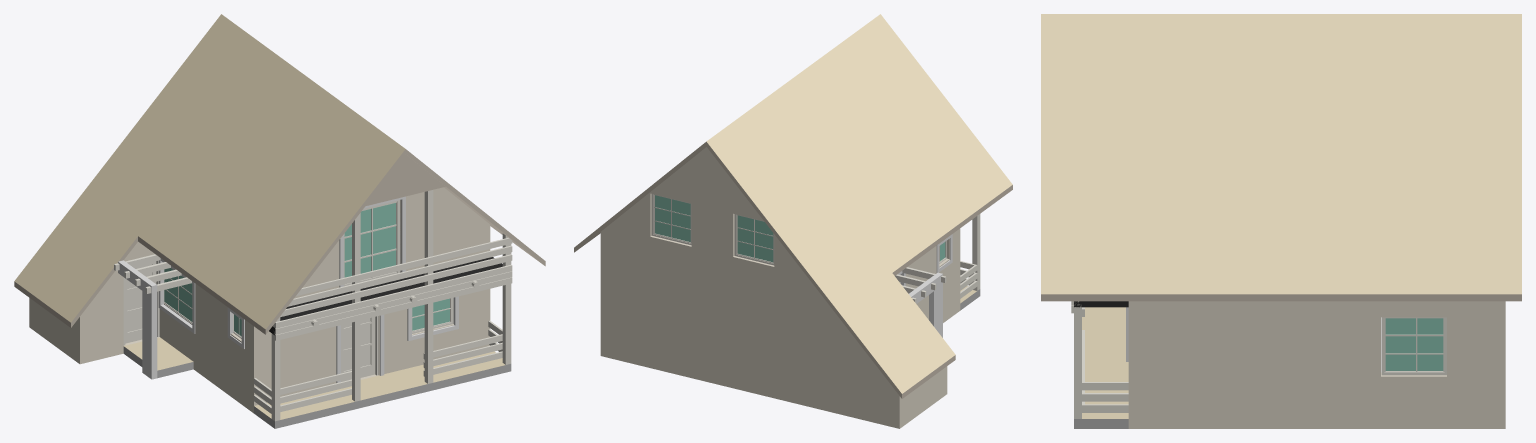
File: house.dae
3 views of the same model, side by side, from view 1: azimuth 30°, elevation 25°; view 2: azimuth 150°, elevation 25°; view 3: azimuth 270°, elevation 25° (orthographic). The views are drawn at different scales.
Parts seen in each view (by area): view 1: Object01, Layer_0, Layer_0_35, Layer_dime, Object07, FixedWind2, Object03, PivotDoor1, PivotDoor0, Object06, FixedWind3, FixedWind1 (+4 smaller); view 2: Object01, Layer_0, FixedWindo, FixedWind0, Layer_dime, Object06, Object07, Layer_0_35; view 3: Object01, Layer_0, Layer_dime, FixedWind5, Layer_0_35, Object07.
Part boxes in pixels (<box>): Object01: <box>14,14,545,334</box>; Layer_0: <box>29,187,490,413</box>; Layer_0_35: <box>254,237,512,413</box>; Layer_dime: <box>118,257,511,428</box>; Object07: <box>271,190,511,421</box>; FixedWind2: <box>344,200,400,286</box>; Object03: <box>366,154,445,205</box>; PivotDoor1: <box>341,316,378,381</box>; PivotDoor0: <box>123,260,159,345</box>; Object06: <box>114,254,191,293</box>; FixedWind3: <box>164,268,192,324</box>; FixedWind1: <box>412,297,453,333</box>; Object01: <box>574,14,1012,398</box>; Layer_0: <box>600,147,960,428</box>; FixedWindo: <box>651,194,691,245</box>; FixedWind0: <box>734,214,774,265</box>; Layer_dime: <box>909,272,980,337</box>; Object06: <box>895,267,946,303</box>; Object07: <box>972,214,980,290</box>; Layer_0_35: <box>960,261,977,298</box>; Object01: <box>1041,14,1521,301</box>; Layer_0: <box>1128,301,1505,428</box>; Layer_dime: <box>1074,301,1381,428</box>; FixedWind5: <box>1381,317,1446,375</box>; Layer_0_35: <box>1071,301,1128,412</box>; Object07: <box>1074,301,1081,418</box>.
Size of the model in its own units: 0.8355 by 0.7686 by 0.5991.
